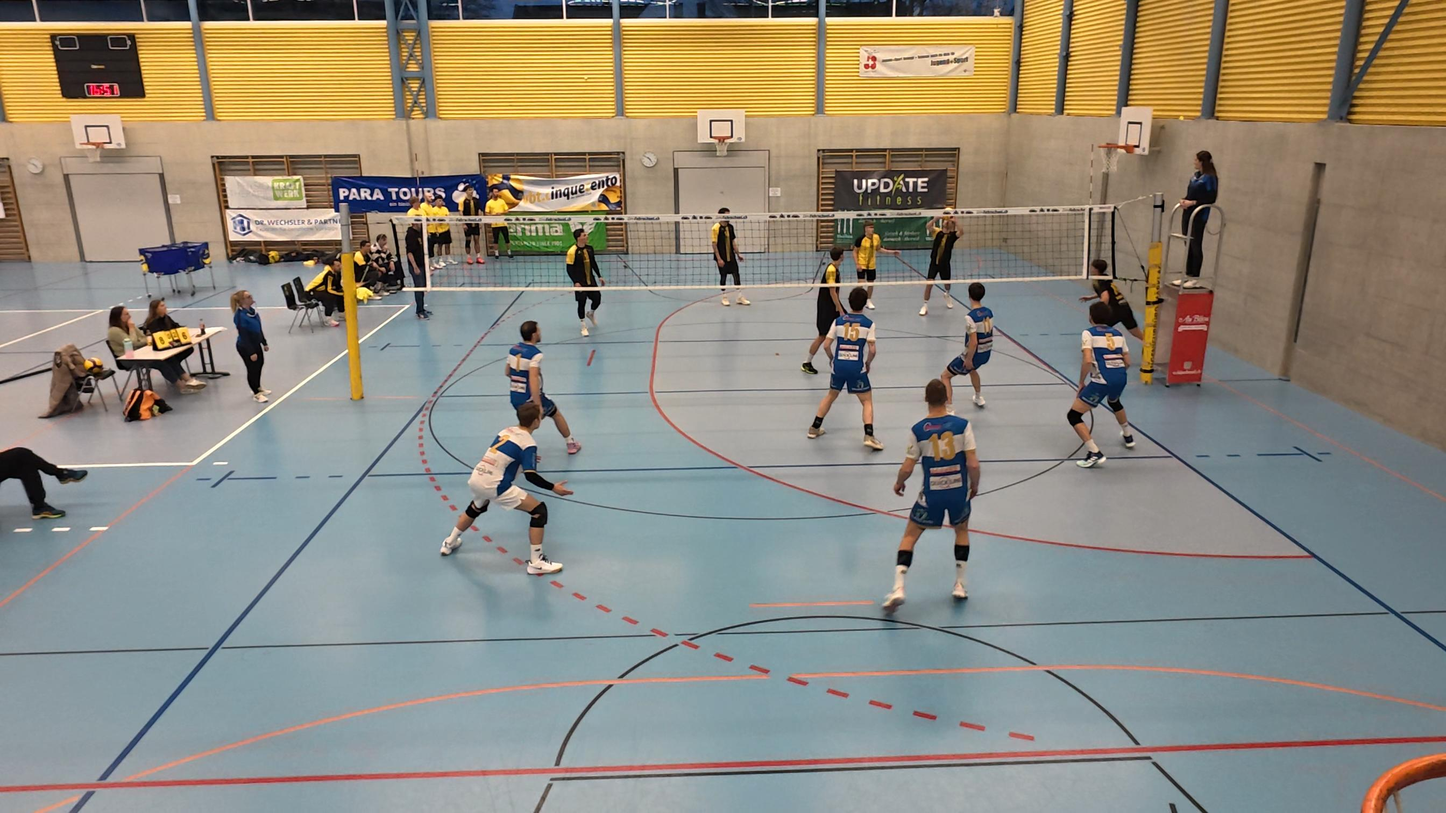Player: (881, 379, 980, 612), (440, 405, 572, 574), (808, 293, 883, 451), (1068, 306, 1137, 466), (506, 320, 580, 455), (942, 283, 997, 413), (1082, 252, 1145, 348), (799, 252, 844, 374), (562, 227, 610, 338), (712, 215, 748, 307), (853, 220, 881, 308)
Set: (916, 206, 961, 315)
